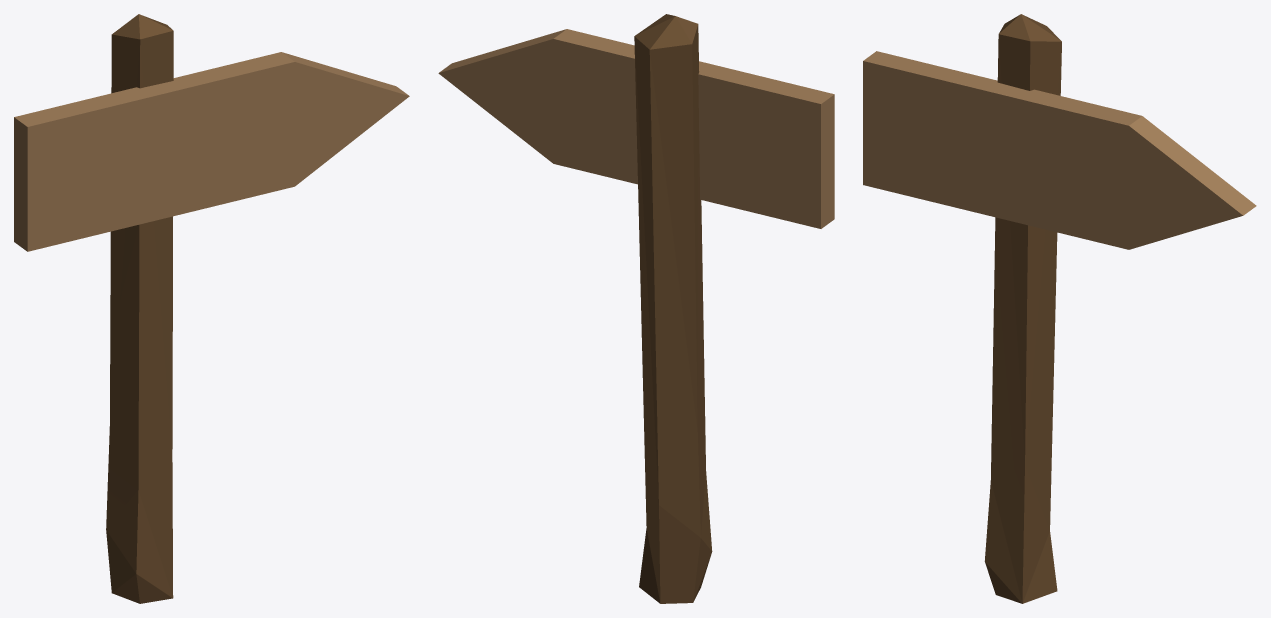
The model's file is Pointer_02.fbx.
The picture shows the model from 3 angles, left to right: view 1: azimuth 30°, elevation 25°; view 2: azimuth 150°, elevation 25°; view 3: azimuth 330°, elevation 25°; orthographic projection.
Visible parts, largest first — view 1: Pointer_02; view 2: Pointer_02; view 3: Pointer_02.
Boxes of the visible parts, box(x1,y1,x2,y2) form: Pointer_02: box(14, 14, 409, 603); Pointer_02: box(438, 14, 834, 603); Pointer_02: box(863, 14, 1256, 603).
Size of the model in its own units: 1.06 by 1.54 by 0.1995.
